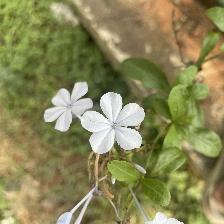chitrak: (83, 91, 147, 154), (43, 80, 95, 133)
